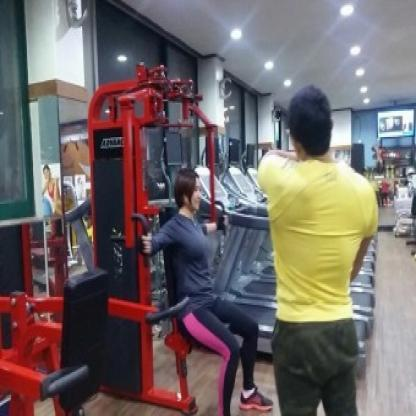chest fly machine: (62, 46, 274, 416)
